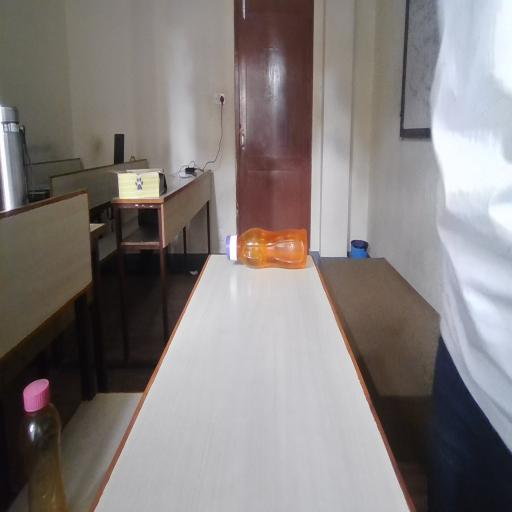Bottle: (12, 357, 79, 512), (210, 223, 324, 283)
